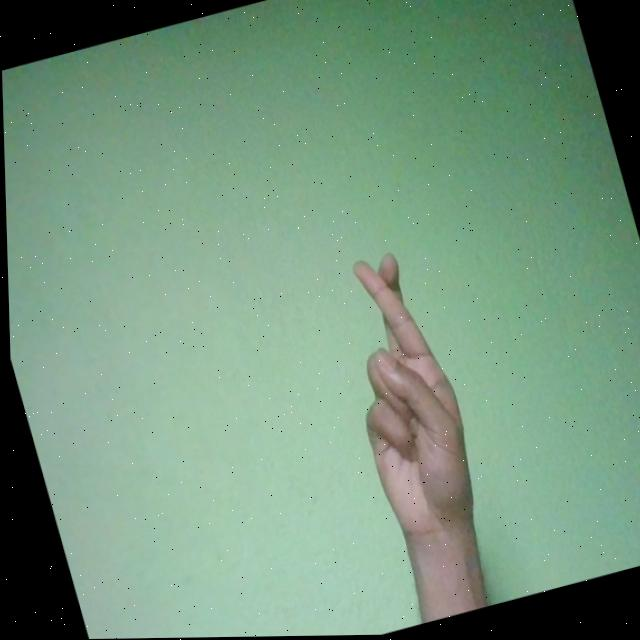Good Luck: (317, 245, 491, 556)
